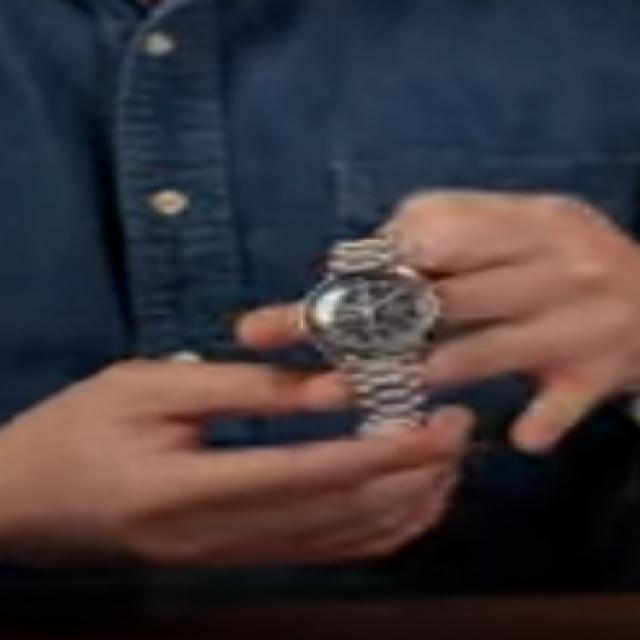Watch: (294, 231, 449, 431)
